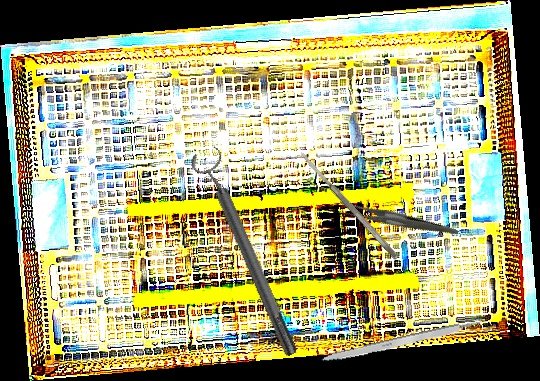Dressing Forceps: (334, 172, 460, 270)
Fixation Ring: (187, 143, 307, 363)
Scalpel Handle: (315, 318, 485, 367)
Spatula Surgical: (297, 148, 401, 262)
